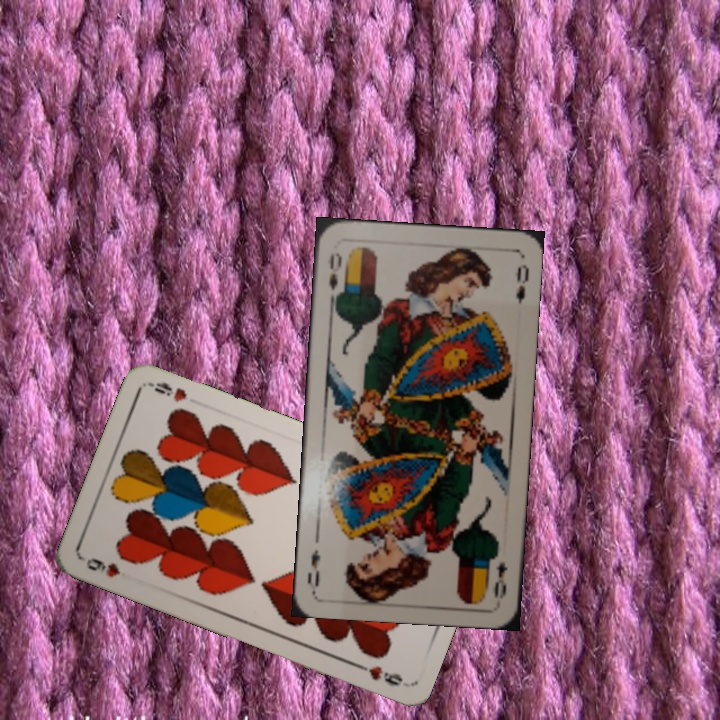EO: (325, 249, 348, 302), (490, 557, 510, 601)
H9: (82, 553, 123, 580)
